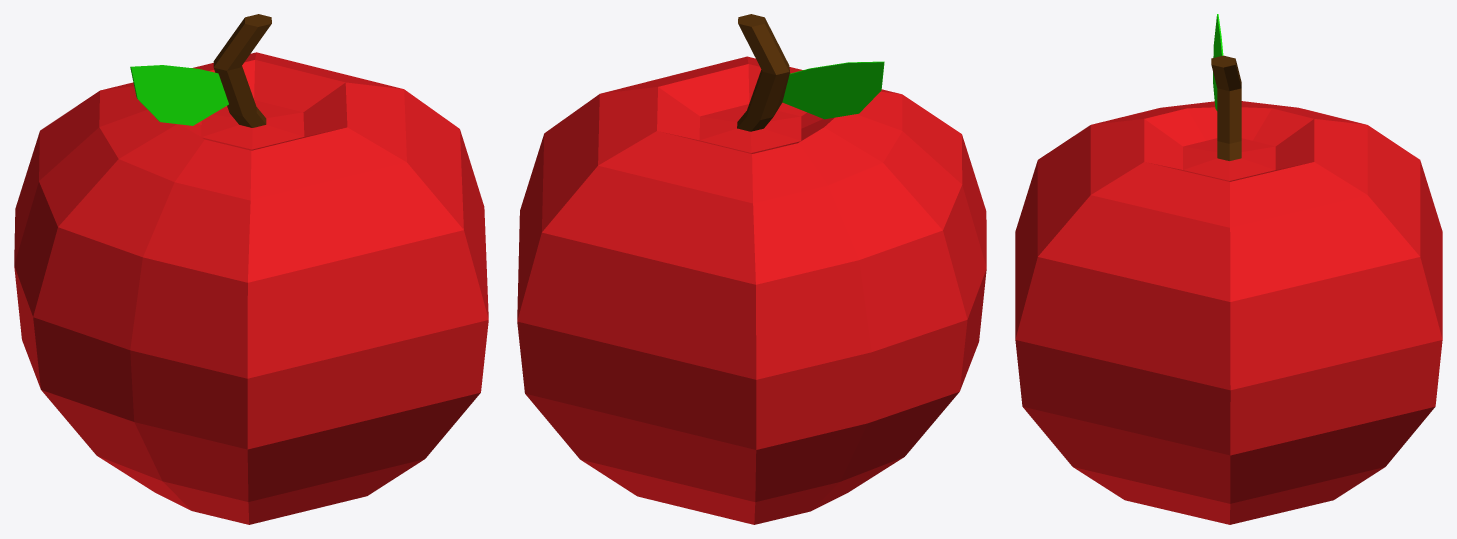
Rendered from Elma.fbx.
3 renders of one model, left to right at view 1: azimuth 30°, elevation 25°; view 2: azimuth 150°, elevation 25°; view 3: azimuth 270°, elevation 25°, orthographic. The views are drawn at different scales.
Visible parts, largest first — view 1: Plane; view 2: Plane; view 3: Plane.
Part boxes in pixels (x1,y1,x2,y2): Plane: (14,14,488,524); Plane: (517,14,986,524); Plane: (1015,14,1442,524).
Bounding box in the file's own units: 526 × 520 × 469.
